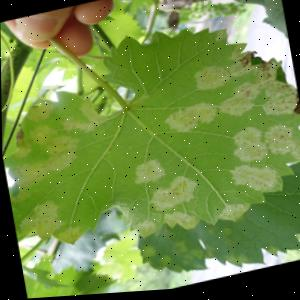Folha: (0, 2, 300, 270), (122, 160, 300, 294), (19, 246, 118, 299)
Fungo: (5, 126, 78, 194), (15, 198, 77, 251), (226, 159, 283, 205), (143, 174, 198, 216), (61, 96, 110, 141), (161, 102, 219, 139), (227, 126, 269, 169), (217, 86, 259, 122), (190, 63, 231, 97), (261, 85, 298, 122), (127, 158, 165, 189), (229, 46, 264, 78), (22, 94, 53, 125), (254, 64, 286, 91), (134, 243, 158, 263), (166, 239, 187, 261), (222, 255, 246, 272), (209, 30, 228, 47), (153, 255, 170, 270), (191, 248, 206, 263), (217, 230, 231, 238)
